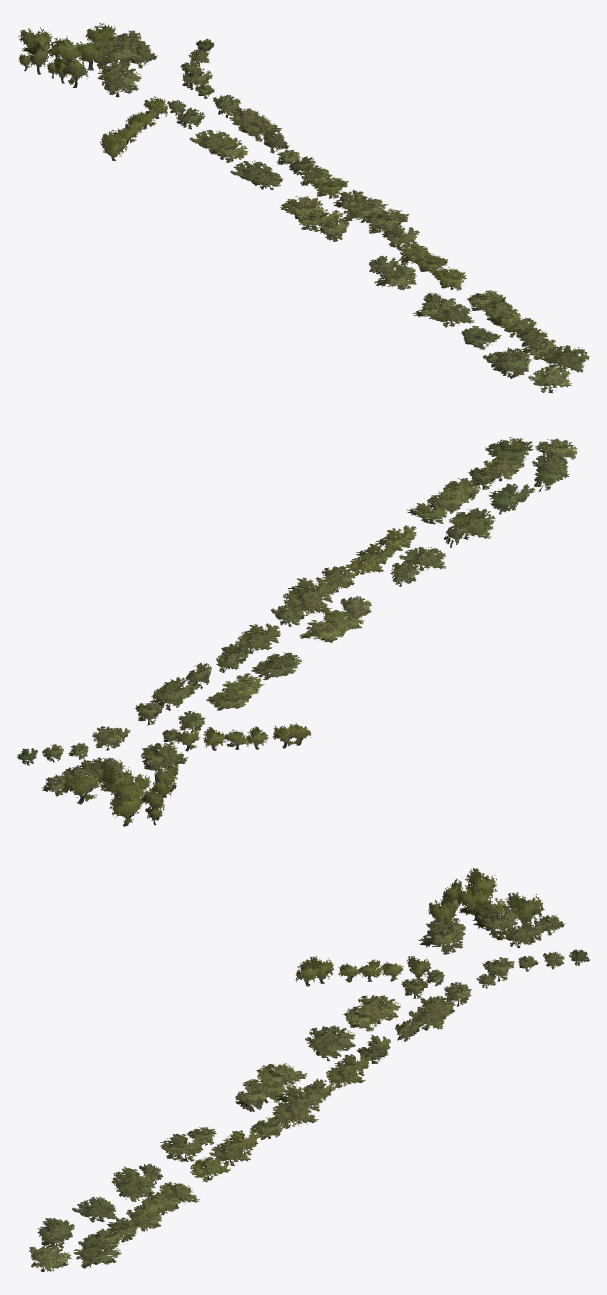
3 views of the same model, one above another, from view 1: azimuth 30°, elevation 25°; view 2: azimuth 150°, elevation 25°; view 3: azimuth 330°, elevation 25° (orthographic). The views are drawn at different scales.
Parts seen in each view (by area): view 1: object 1; view 2: object 1; view 3: object 1.
Part boxes in pixels (<box>): object 1: <box>18,22,589,392</box>; object 1: <box>16,437,577,824</box>; object 1: <box>29,867,590,1271</box>.
Size of the model in its own units: 110 by 17.61 by 458.
3 materials, 3 textured.
